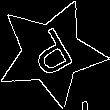P_SE: (22, 22, 80, 84)
